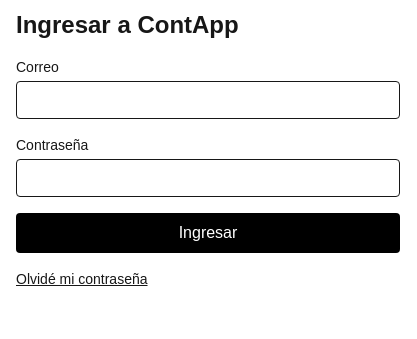
/login › 401 credenciales_invalidas → mensaje genérico y no navega
Type "ana@ejemplo.test" into the field labelled "Correo".
click(208, 100); type("ana@ejemplo.test")  # box [16,81,400,119]
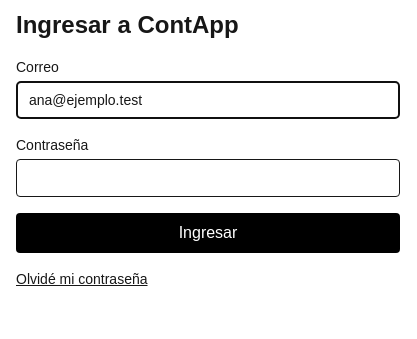
Type "canario-contrasena-de-prueba-1" into the password field labelled "Contraseña".
click(208, 178); type("canario-contrasena-de-prueba-1")  # box [16,159,400,197]
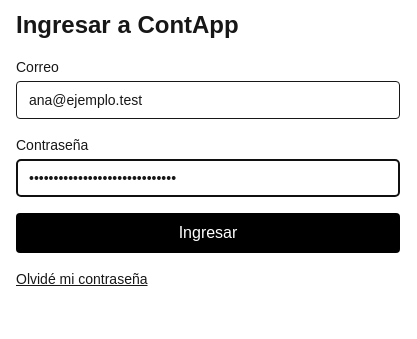
Click the button "Ingresar".
click(208, 233)  # box [16,213,400,253]
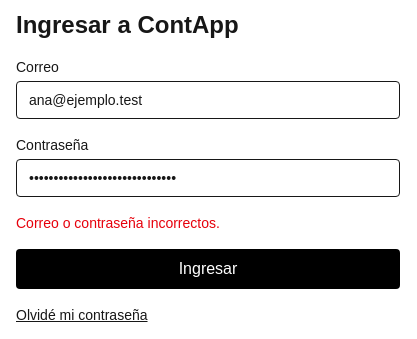
Result: the text "Correo o contraseña incorrectos." is shown at [16,215,220,231]
